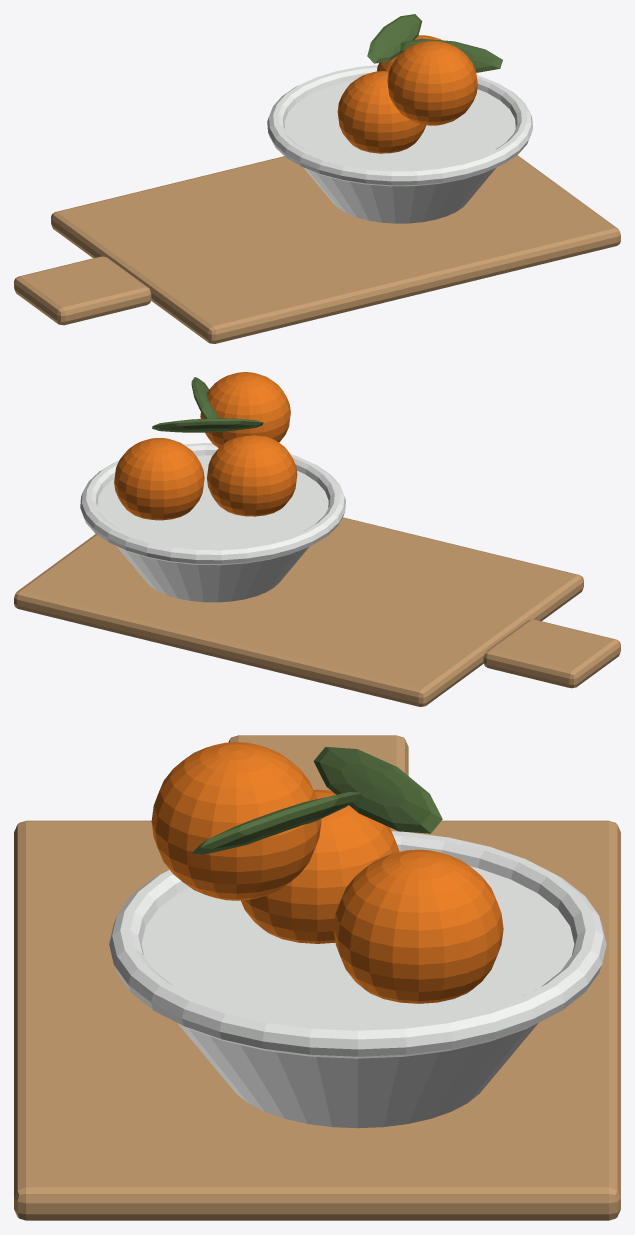
The model's file is kitchen-board-set.glb.
3 renders of one model, top to bottom at view 1: azimuth 30°, elevation 25°; view 2: azimuth 150°, elevation 25°; view 3: azimuth 270°, elevation 25°, orthographic. The views are drawn at different scales.
Parts seen in each view (by area): view 1: board, bowl, bowl-rim, board-handle, orange-2, orange-0, citrus-leaf-0, citrus-leaf-1; view 2: board, bowl, bowl-rim, board-handle, orange-1, orange-0, orange-2, citrus-leaf-0, citrus-leaf-1; view 3: board, bowl, bowl-rim, orange-1, orange-2, orange-0, citrus-leaf-0, board-handle, citrus-leaf-1.
Part boxes in pixels (<box>): board: <box>51,155,620,343</box>; bowl: <box>284,80,515,223</box>; bowl-rim: <box>267,65,532,186</box>; board-handle: <box>14,256,151,325</box>; orange-2: <box>387,40,477,125</box>; orange-0: <box>337,71,426,153</box>; citrus-leaf-0: <box>367,14,422,63</box>; citrus-leaf-1: <box>400,38,502,72</box>; board: <box>14,517,583,706</box>; bowl: <box>97,455,328,602</box>; bowl-rim: <box>80,443,345,565</box>; board-handle: <box>483,619,620,688</box>; orange-1: <box>114,438,204,520</box>; orange-0: <box>207,435,297,516</box>; orange-2: <box>200,372,290,447</box>; citrus-leaf-0: <box>152,418,263,432</box>; citrus-leaf-1: <box>191,377,219,418</box>; board: <box>14,820,620,1220</box>; bowl: <box>141,866,574,1128</box>; bowl-rim: <box>109,831,606,1058</box>; orange-1: <box>333,849,503,1003</box>; orange-2: <box>151,742,321,900</box>; orange-0: <box>241,789,399,943</box>; citrus-leaf-0: <box>313,747,442,833</box>; board-handle: <box>228,735,408,790</box>; citrus-leaf-1: <box>191,792,360,854</box>.
Bounding box in the file's own units: 0.54 × 0.1936 × 0.3.
